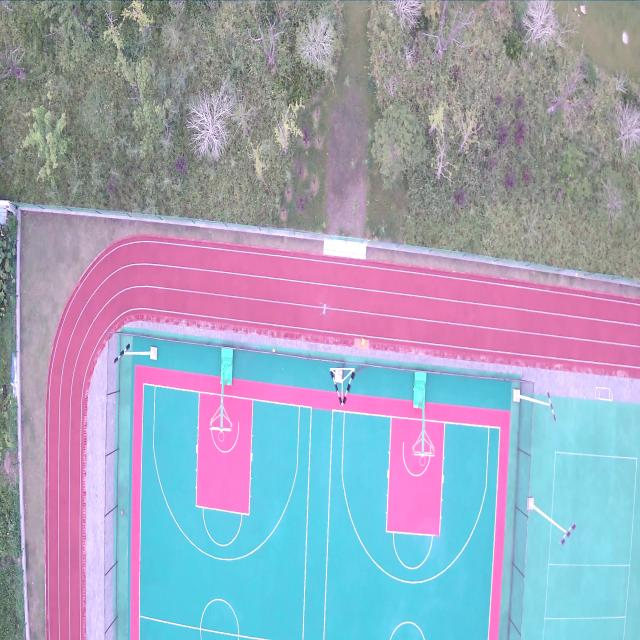UAV: (320, 302, 330, 317)
